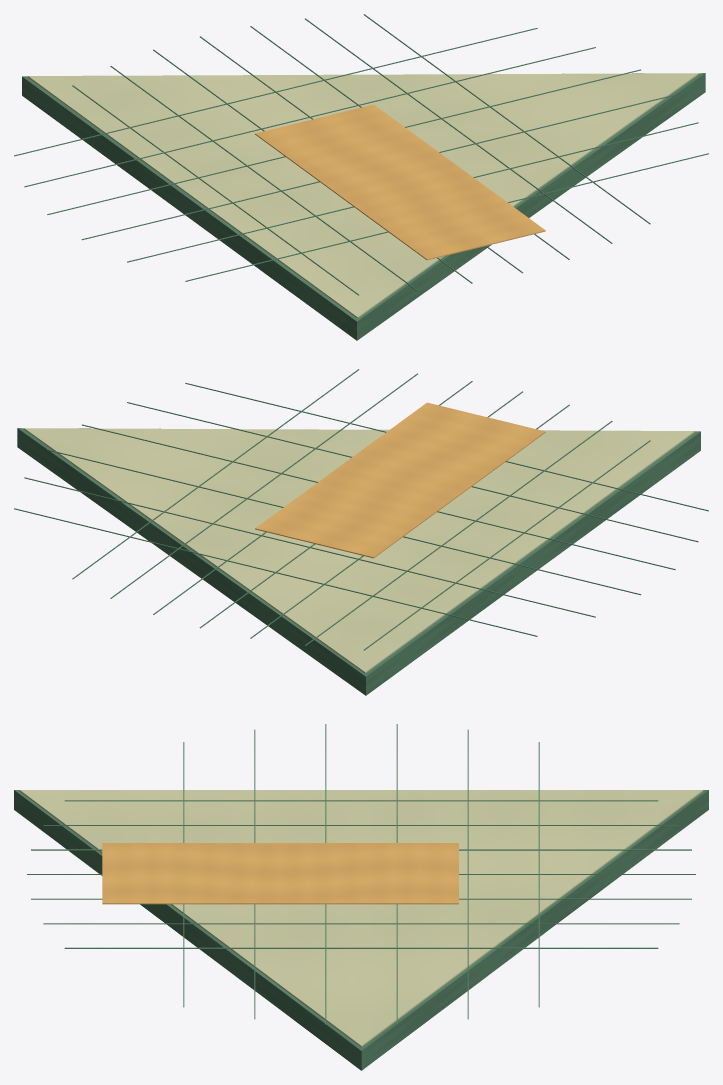
Rendered from atlas100-s003-a07.lod2.glb.
3 renders of one model, top to bottom at view 1: azimuth 30°, elevation 25°; view 2: azimuth 150°, elevation 25°; view 3: azimuth 270°, elevation 25°, orthographic. The views are drawn at different scales.
Visible parts, largest first — view 1: atlas100-s003-a07:part-001, atlas100-s003-a07:part-021, atlas100-s003-a07:part-000, atlas100-s003-a07:part-015, atlas100-s003-a07:part-014, atlas100-s003-a07:part-017, atlas100-s003-a07:part-016, atlas100-s003-a07:part-018, atlas100-s003-a07:part-019, atlas100-s003-a07:part-005, atlas100-s003-a07:part-009, atlas100-s003-a07:part-010 (+1 smaller); view 2: atlas100-s003-a07:part-001, atlas100-s003-a07:part-021, atlas100-s003-a07:part-000, atlas100-s003-a07:part-015, atlas100-s003-a07:part-014, atlas100-s003-a07:part-016, atlas100-s003-a07:part-017, atlas100-s003-a07:part-018, atlas100-s003-a07:part-019, atlas100-s003-a07:part-005, atlas100-s003-a07:part-009, atlas100-s003-a07:part-010 (+1 smaller); view 3: atlas100-s003-a07:part-001, atlas100-s003-a07:part-021, atlas100-s003-a07:part-000, atlas100-s003-a07:part-009, atlas100-s003-a07:part-010, atlas100-s003-a07:part-004, atlas100-s003-a07:part-005, atlas100-s003-a07:part-006, atlas100-s003-a07:part-008, atlas100-s003-a07:part-015.
Part boxes in pixels (<box>): atlas100-s003-a07:part-001: <box>28,73,698,318</box>; atlas100-s003-a07:part-021: <box>255,104,545,260</box>; atlas100-s003-a07:part-000: <box>22,73,705,340</box>; atlas100-s003-a07:part-015: <box>24,47,595,187</box>; atlas100-s003-a07:part-014: <box>14,28,537,156</box>; atlas100-s003-a07:part-017: <box>81,94,675,240</box>; atlas100-s003-a07:part-016: <box>47,69,640,214</box>; atlas100-s003-a07:part-018: <box>127,122,698,262</box>; atlas100-s003-a07:part-019: <box>185,153,708,281</box>; atlas100-s003-a07:part-005: <box>110,66,418,291</box>; atlas100-s003-a07:part-009: <box>305,18,612,243</box>; atlas100-s003-a07:part-010: <box>363,14,650,224</box>; atlas100-s003-a07:part-001: <box>24,428,694,673</box>; atlas100-s003-a07:part-021: <box>255,402,545,558</box>; atlas100-s003-a07:part-000: <box>17,428,700,695</box>; atlas100-s003-a07:part-015: <box>24,477,595,617</box>; atlas100-s003-a07:part-014: <box>14,508,537,636</box>; atlas100-s003-a07:part-016: <box>47,449,641,595</box>; atlas100-s003-a07:part-017: <box>82,424,675,569</box>; atlas100-s003-a07:part-018: <box>127,402,698,542</box>; atlas100-s003-a07:part-019: <box>185,383,708,511</box>; atlas100-s003-a07:part-005: <box>304,421,612,646</box>; atlas100-s003-a07:part-009: <box>110,373,417,598</box>; atlas100-s003-a07:part-010: <box>72,369,359,579</box>; atlas100-s003-a07:part-001: <box>19,790,703,1046</box>; atlas100-s003-a07:part-021: <box>102,843,458,904</box>; atlas100-s003-a07:part-000: <box>14,790,708,1070</box>; atlas100-s003-a07:part-009: <box>43,923,679,924</box>; atlas100-s003-a07:part-010: <box>64,947,658,948</box>; atlas100-s003-a07:part-004: <box>64,800,658,801</box>; atlas100-s003-a07:part-005: <box>43,825,679,825</box>; atlas100-s003-a07:part-006: <box>31,849,691,850</box>; atlas100-s003-a07:part-008: <box>31,898,691,899</box>; atlas100-s003-a07:part-015: <box>467,729,468,1019</box>.
Bounding box in the file's own units: 11.87 × 0.404 × 10.76.
Materials: 3 (3 with a texture image).
